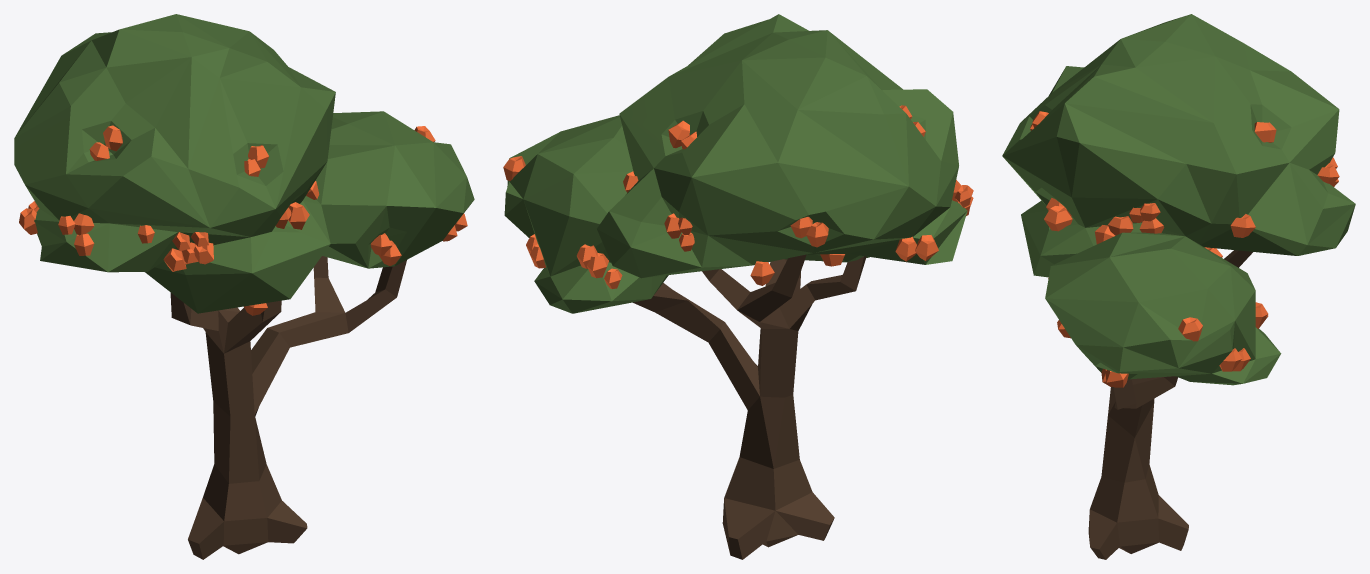
Rendered from apricot_tree.glb.
The picture shows the model from 3 angles, left to right: view 1: azimuth 30°, elevation 25°; view 2: azimuth 150°, elevation 25°; view 3: azimuth 270°, elevation 25°; orthographic projection. The views are drawn at different scales.
Visible parts, largest first — view 1: SM_Env_Tree_Apricot_Grown_01; view 2: SM_Env_Tree_Apricot_Grown_01; view 3: SM_Env_Tree_Apricot_Grown_01.
Part boxes in pixels (x1=…): SM_Env_Tree_Apricot_Grown_01: x1=14, y1=14, x2=474, y2=559; SM_Env_Tree_Apricot_Grown_01: x1=503, y1=14, x2=973, y2=559; SM_Env_Tree_Apricot_Grown_01: x1=1002, y1=14, x2=1355, y2=559.
Bounding box in the file's own units: 4.13 × 4.87 × 3.12.
1 material, 1 textured.
